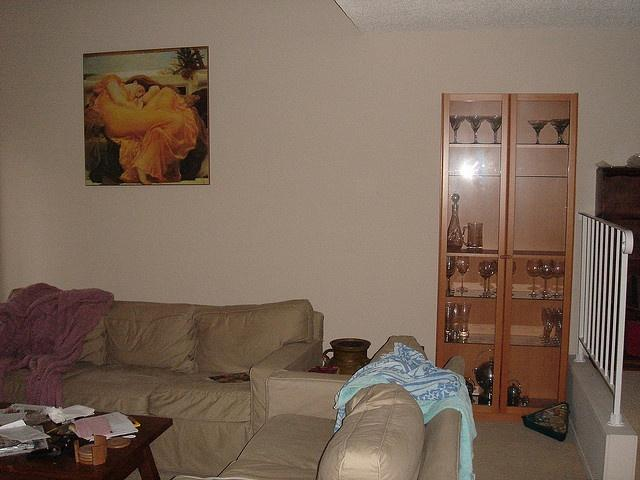Lemari: (432, 91, 579, 422)
